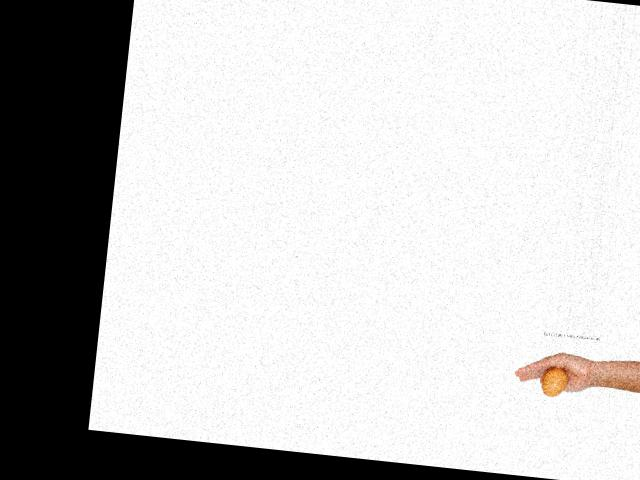egg: (539, 365, 568, 398)
